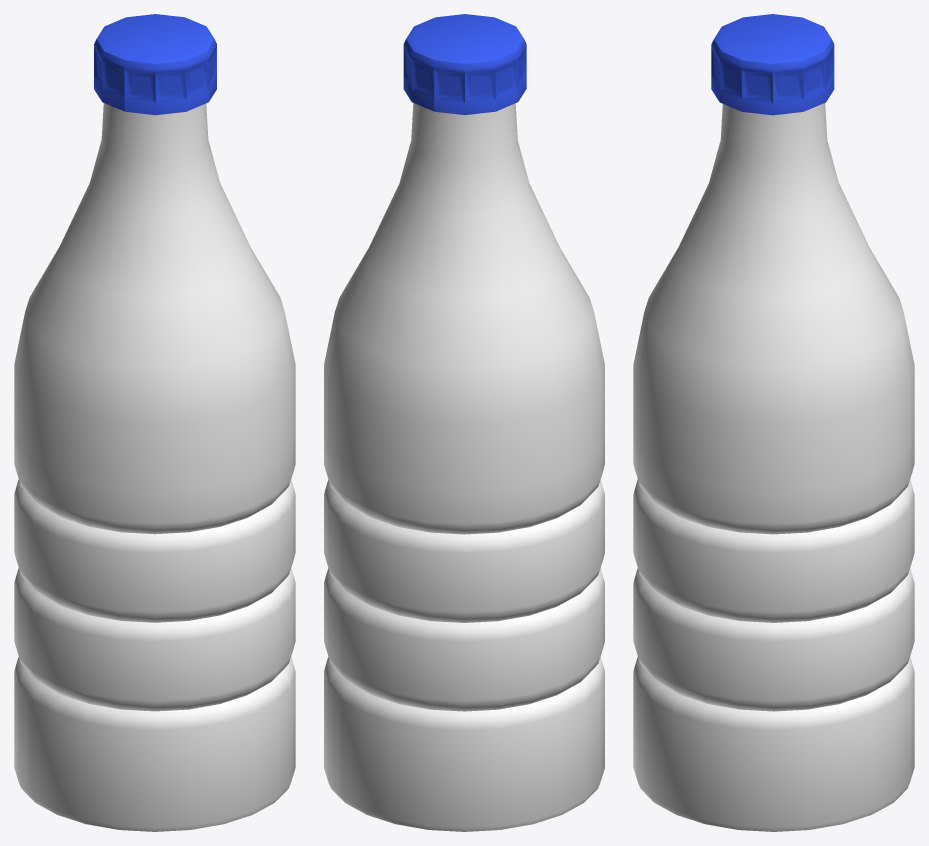
Rendered from Bottles_05.glb.
3 views of the same model, side by side, from view 1: azimuth 30°, elevation 25°; view 2: azimuth 150°, elevation 25°; view 3: azimuth 270°, elevation 25° (orthographic).
Parts seen in each view (by area): view 1: Mesh_Bottles_05; view 2: Mesh_Bottles_05; view 3: Mesh_Bottles_05.
Boxes of the visible parts, left/top/right/bottom form: Mesh_Bottles_05: left=14, top=14, right=295, bottom=831; Mesh_Bottles_05: left=324, top=14, right=604, bottom=831; Mesh_Bottles_05: left=633, top=14, right=914, bottom=831.
Bounding box in the file's own units: 0.0719 × 0.2086 × 0.0719.
Materials: 1 (1 with a texture image).
